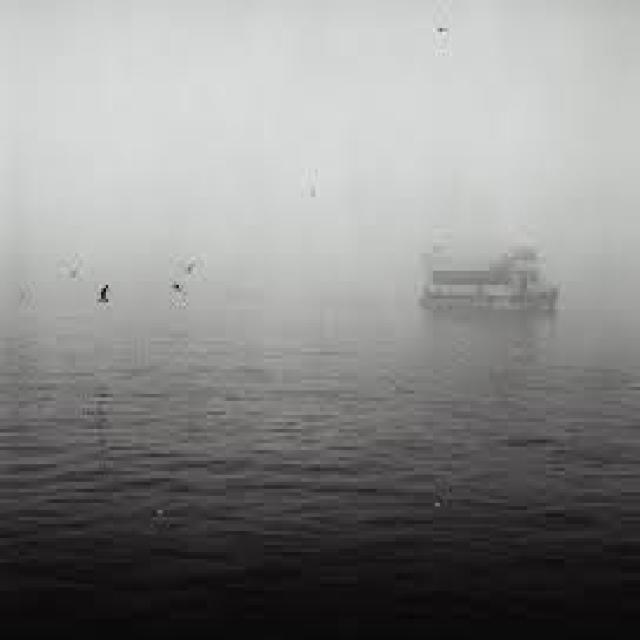fishing boat: (394, 203, 568, 330)
